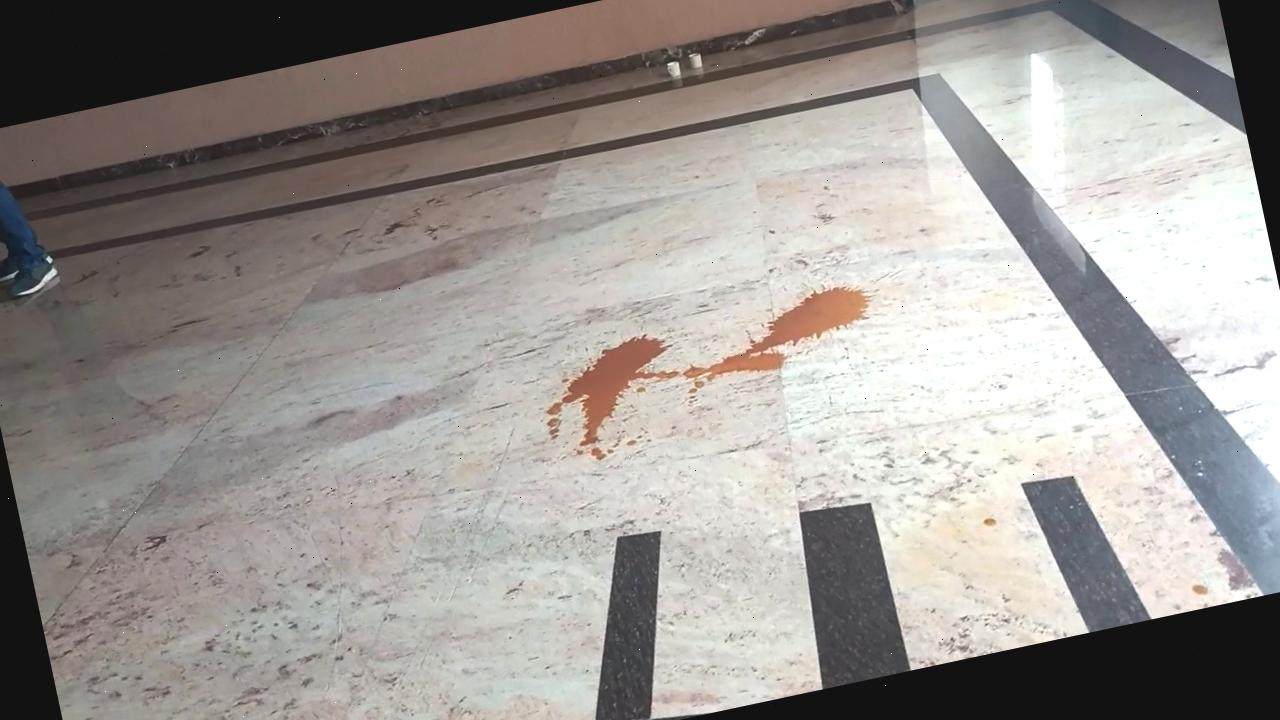dirty_floor: (525, 266, 914, 470)
